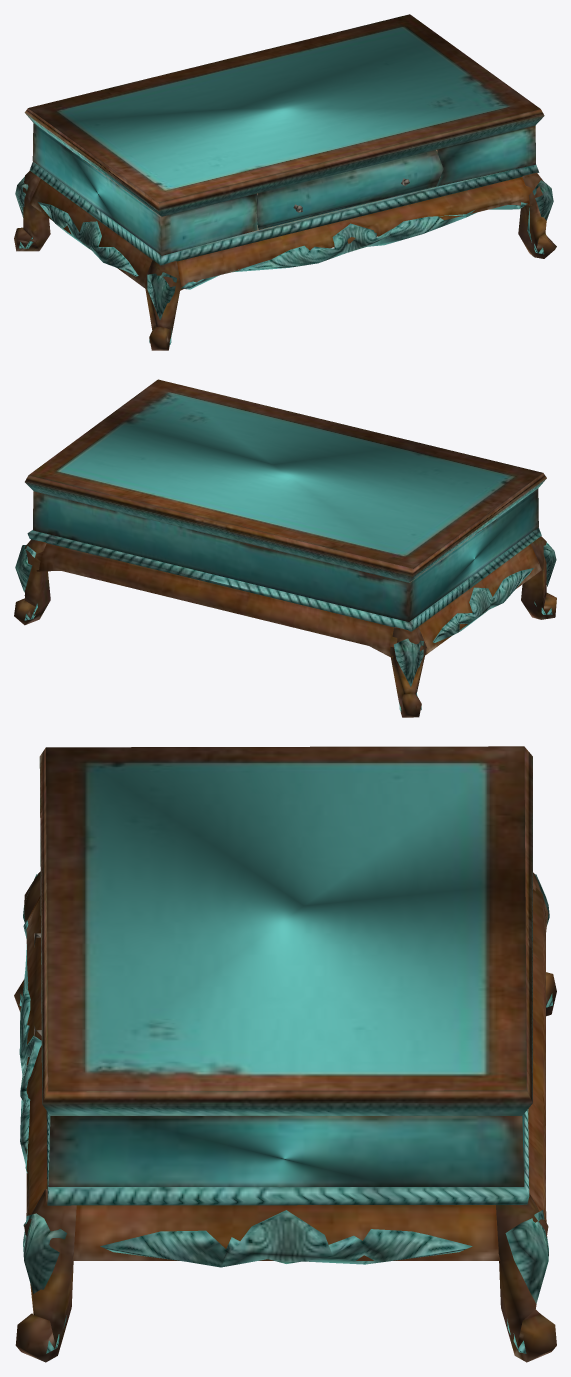
Rendered from CoffeeTable_01.glb.
3 views of the same model, one above another, from view 1: azimuth 30°, elevation 25°; view 2: azimuth 150°, elevation 25°; view 3: azimuth 270°, elevation 25° (orthographic). The views are drawn at different scales.
Parts seen in each view (by area): view 1: CoffeeTable_01; view 2: CoffeeTable_01; view 3: CoffeeTable_01.
Part boxes in pixels (left/top/right/bottom): CoffeeTable_01: left=14, top=14, right=556, bottom=350; CoffeeTable_01: left=14, top=379, right=556, bottom=717; CoffeeTable_01: left=14, top=746, right=556, bottom=1362.
Size of the model in its own units: 1.53 by 0.5212 by 0.9698.
Materials: 1 (1 with a texture image).
